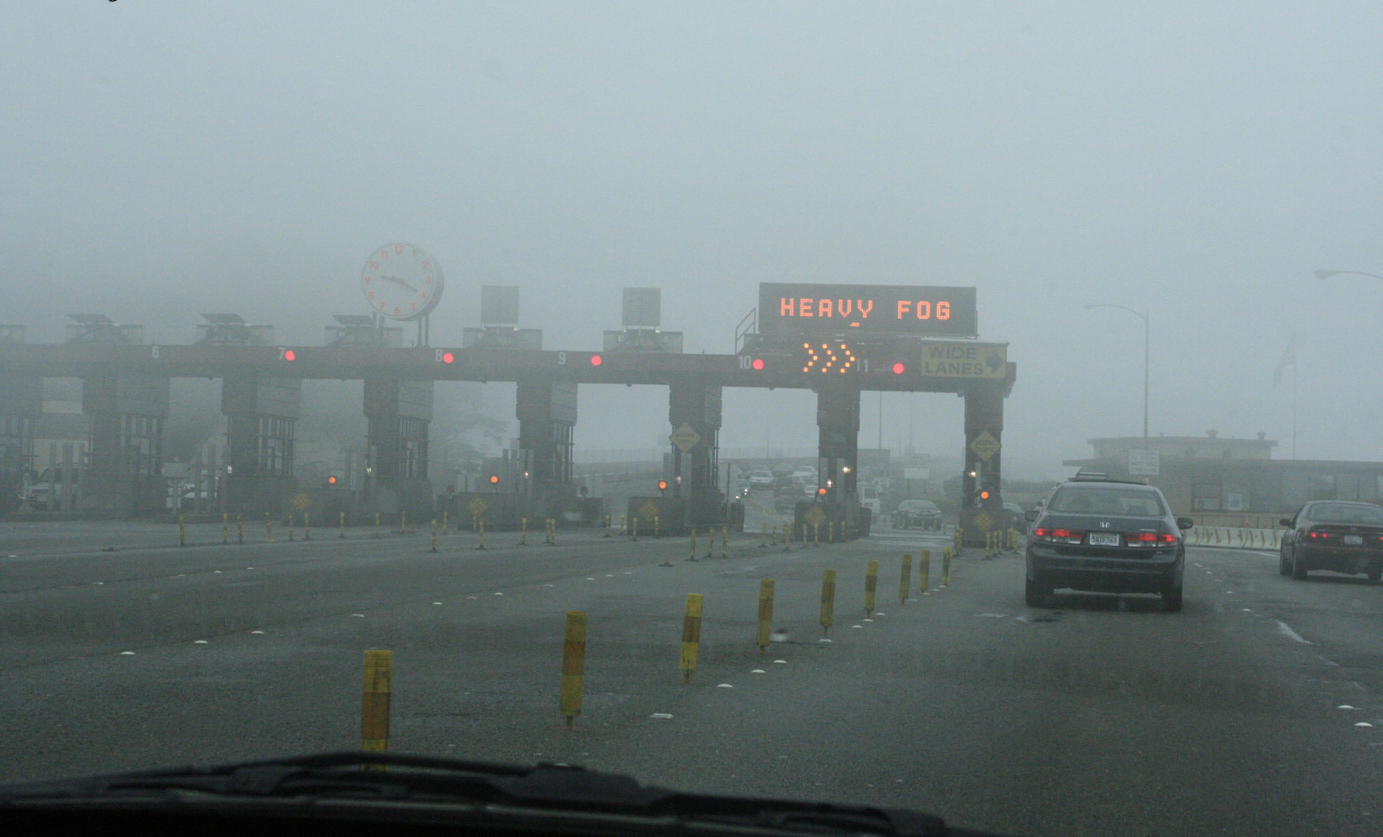car: (1023, 470, 1195, 616), (1277, 497, 1383, 581), (26, 462, 98, 517), (175, 475, 237, 515), (888, 499, 944, 531), (839, 485, 882, 525), (987, 502, 1029, 536), (772, 485, 811, 514), (748, 469, 776, 491), (789, 465, 817, 485), (730, 478, 753, 499), (745, 464, 770, 483), (802, 484, 824, 504)
